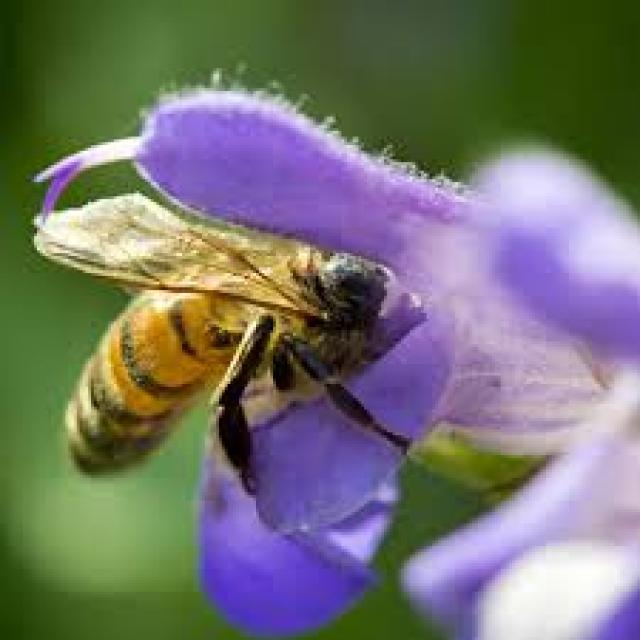Bees: (27, 190, 415, 496)
